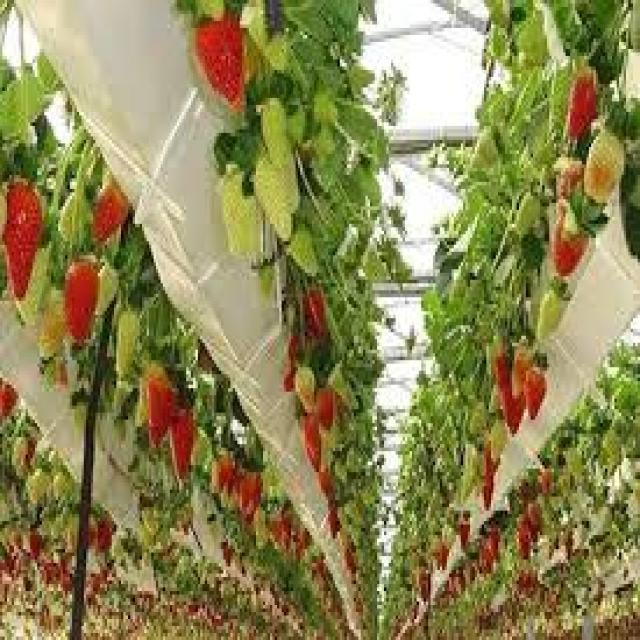Fruta sana: (194, 0, 247, 114), (206, 163, 262, 264), (0, 167, 38, 302), (256, 140, 292, 243), (582, 130, 626, 212), (550, 210, 590, 288), (32, 292, 70, 366), (90, 187, 130, 257), (170, 406, 197, 481), (148, 368, 172, 442), (528, 358, 553, 424), (568, 74, 596, 132), (74, 268, 95, 342), (237, 474, 268, 516), (534, 304, 563, 348), (512, 342, 535, 396), (299, 350, 319, 411), (214, 448, 238, 498), (503, 387, 526, 437), (315, 378, 335, 430), (497, 350, 511, 400), (318, 470, 336, 502), (484, 451, 494, 488)
